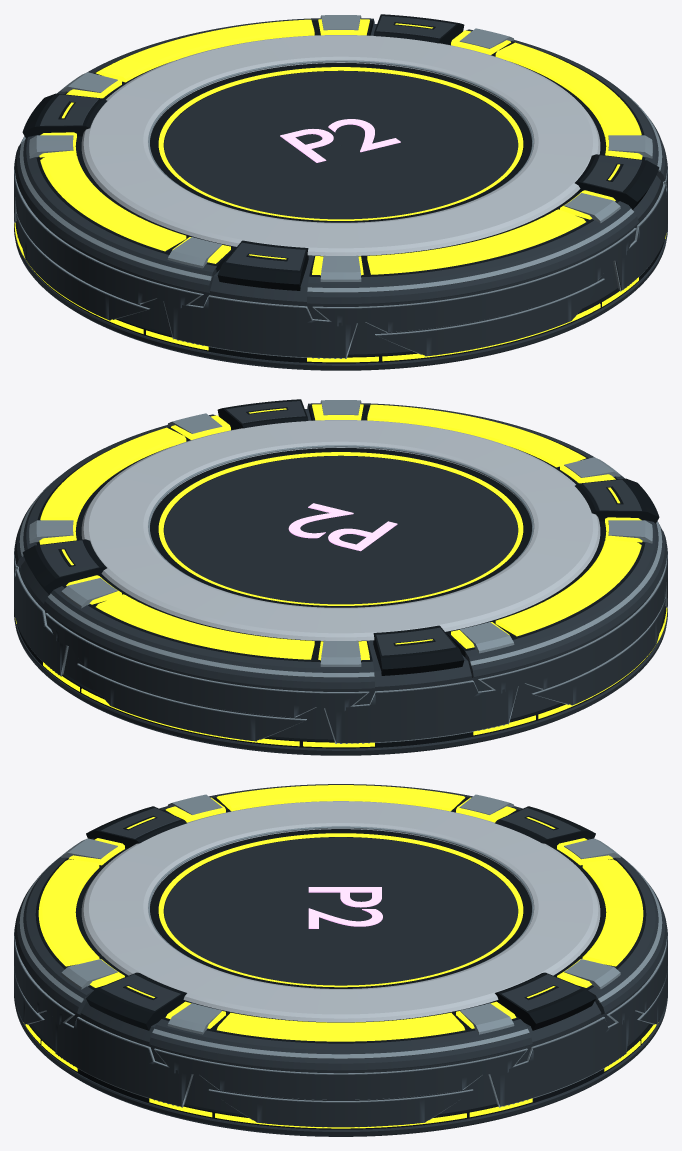
File: Striker.fbx
3 views of the same model, one above another, from view 1: azimuth 30°, elevation 25°; view 2: azimuth 150°, elevation 25°; view 3: azimuth 270°, elevation 25° (orthographic).
Visible parts, largest first — view 1: SM_Puck_Striker_P2_HighDetail; view 2: SM_Puck_Striker_P2_HighDetail; view 3: SM_Puck_Striker_P2_HighDetail.
Part boxes in pixels (x1,y1,x2,y2): SM_Puck_Striker_P2_HighDetail: (14,14,667,370); SM_Puck_Striker_P2_HighDetail: (14,399,667,755); SM_Puck_Striker_P2_HighDetail: (14,784,667,1136).
Bounding box in the file's own units: 82.7 × 82.7 × 13.4.
